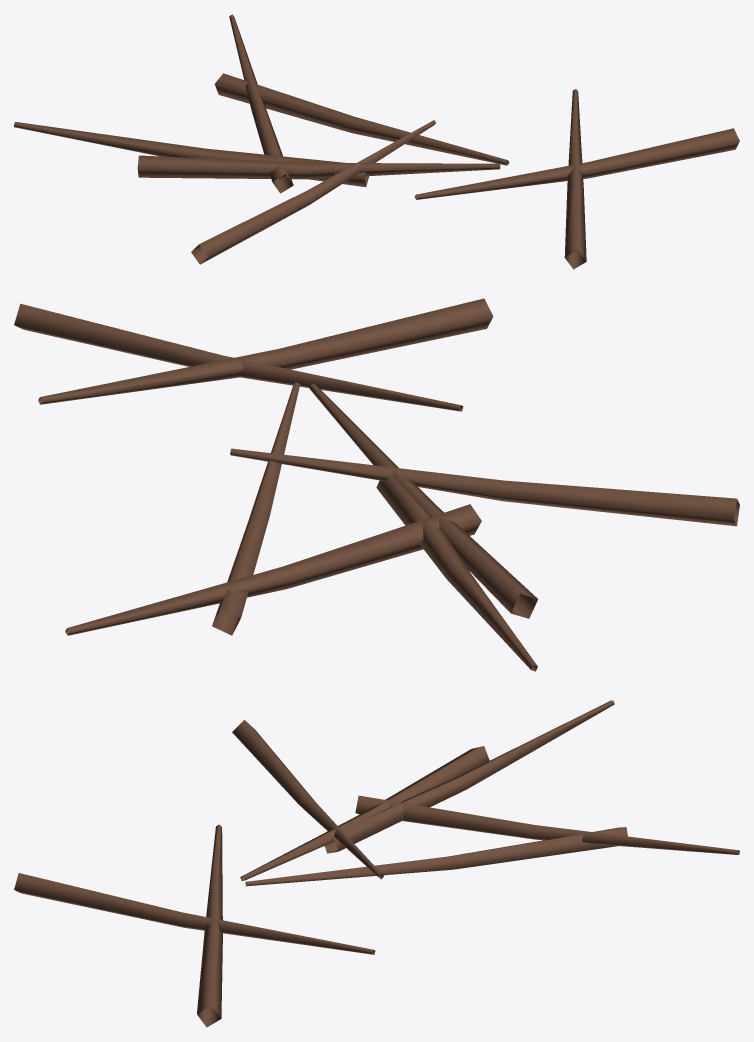
File: twigs.glb
3 renders of one model, top to bottom at view 1: azimuth 30°, elevation 25°; view 2: azimuth 150°, elevation 25°; view 3: azimuth 270°, elevation 25°, orthographic. The views are drawn at different scales.
Parts seen in each view (by area): view 1: twig0; view 2: twig0; view 3: twig0.
Part boxes in pixels (x1=…): twig0: x1=14, y1=14, x2=739, y2=269; twig0: x1=14, y1=298, x2=739, y2=671; twig0: x1=14, y1=700, x2=739, y2=1027.
Bounding box in the file's own units: 2.24 × 0.1099 × 2.31.
